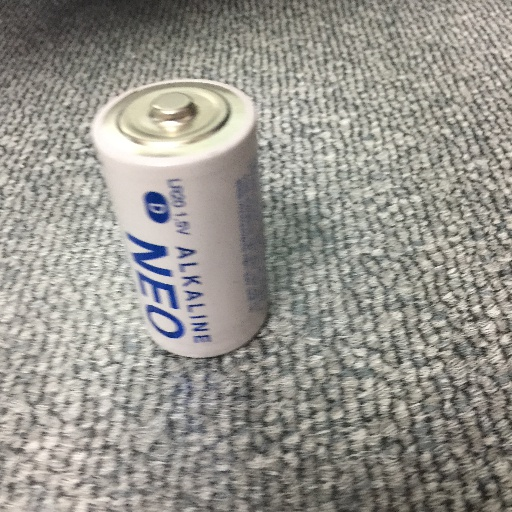Battery_0: (82, 61, 290, 370)
